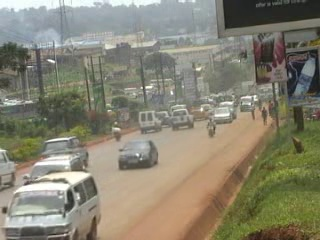Car: (21, 148, 85, 186), (39, 136, 90, 170), (116, 138, 162, 170), (135, 108, 162, 136), (168, 108, 196, 133), (211, 104, 233, 125), (190, 104, 209, 120), (156, 108, 170, 127)
Motorcycle: (110, 119, 123, 142), (205, 117, 217, 138)
